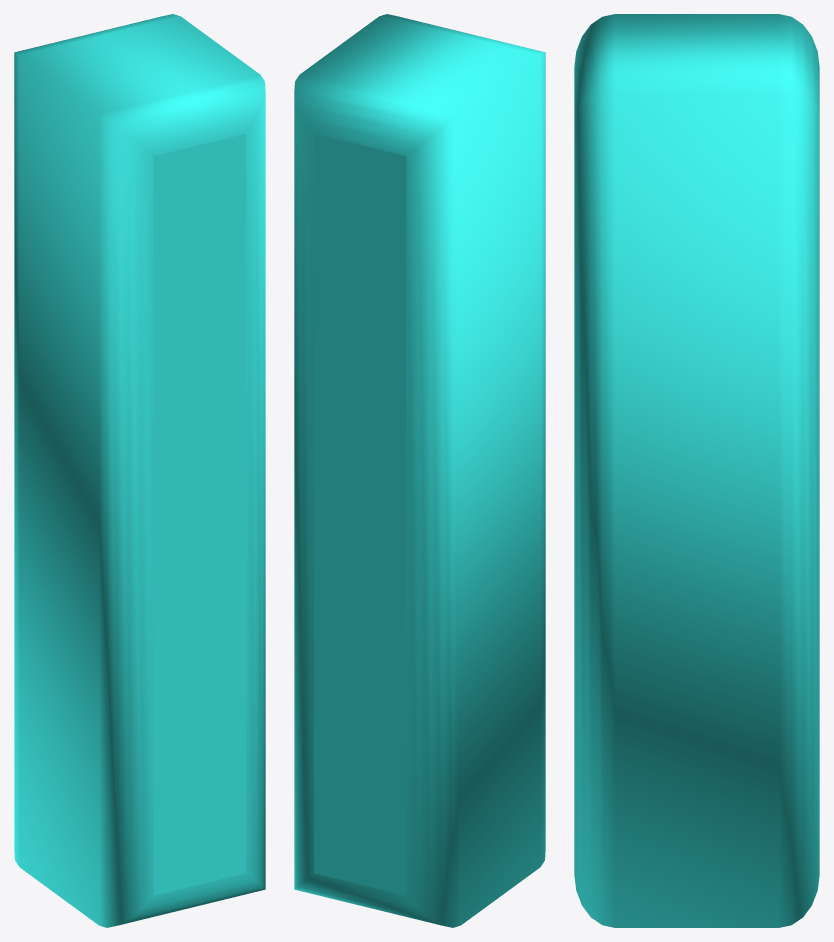
The picture shows the model from 3 angles, left to right: view 1: azimuth 30°, elevation 25°; view 2: azimuth 150°, elevation 25°; view 3: azimuth 270°, elevation 25°; orthographic projection. The views are drawn at different scales.
Parts seen in each view (by area): view 1: Text; view 2: Text; view 3: Text.
Part boxes in pixels (x1,y1,x2,y2): Text: (14, 14, 265, 927); Text: (294, 14, 545, 927); Text: (574, 14, 819, 927).
Bounding box in the file's own units: 0.467 × 2.25 × 0.6.
